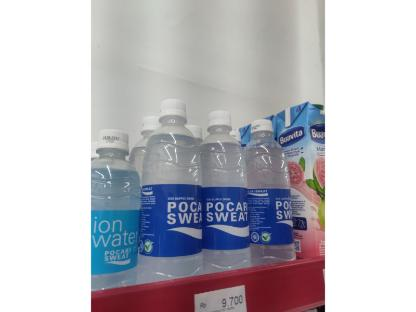Plastic Bottle: (140, 98, 200, 312), (80, 128, 140, 312), (194, 110, 252, 296), (242, 120, 298, 290)
